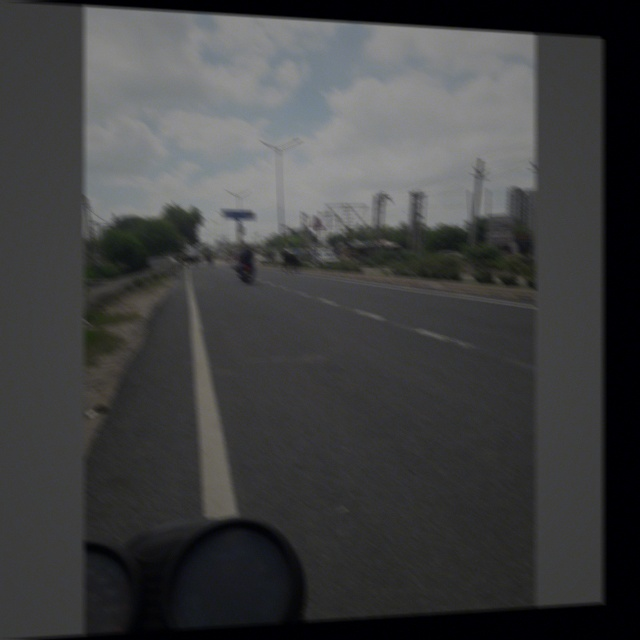Gap_in_Median: (307, 213, 326, 231)
